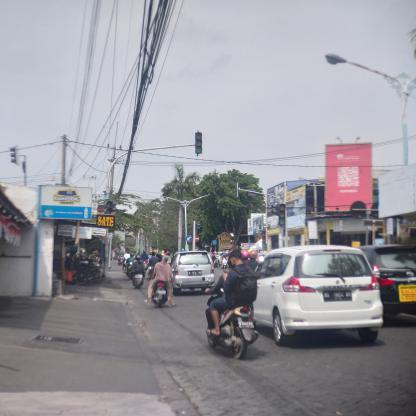green: (278, 204, 286, 228), (195, 133, 203, 155)
